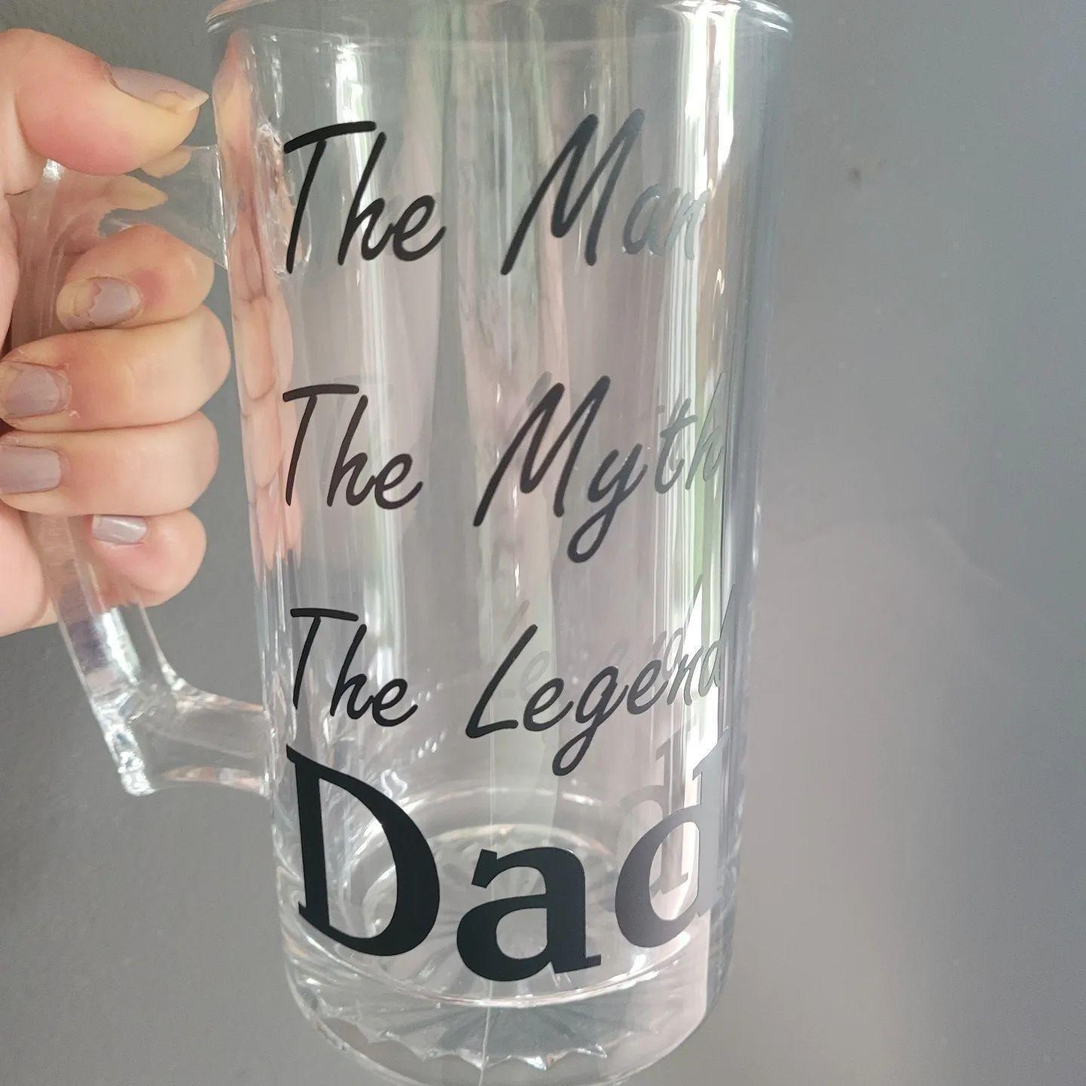glass-mug: (0, 0, 803, 1086)
